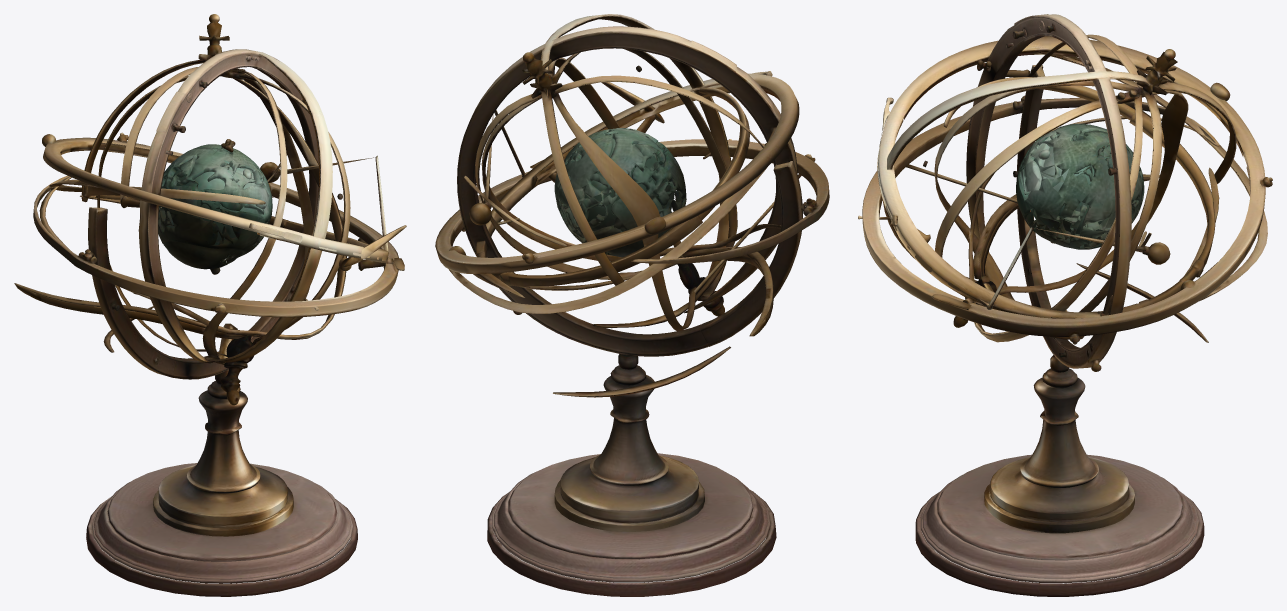
File: armillary.glb
3 renders of one model, left to right at view 1: azimuth 30°, elevation 25°; view 2: azimuth 150°, elevation 25°; view 3: azimuth 270°, elevation 25°, orthographic. The views are drawn at different scales.
Parts seen in each view (by area): view 1: f5225035_5bdf_4188_afa3_0f90f429c5d4; view 2: f5225035_5bdf_4188_afa3_0f90f429c5d4; view 3: f5225035_5bdf_4188_afa3_0f90f429c5d4.
Boxes of the visible parts, x1=… form: f5225035_5bdf_4188_afa3_0f90f429c5d4: x1=14, y1=14, x2=406, y2=596; f5225035_5bdf_4188_afa3_0f90f429c5d4: x1=435, y1=14, x2=829, y2=596; f5225035_5bdf_4188_afa3_0f90f429c5d4: x1=858, y1=14, x2=1272, y2=596.
Size of the model in its own units: 0.6919 by 0.9995 by 0.7368.
Materials: 1 (1 with a texture image).
